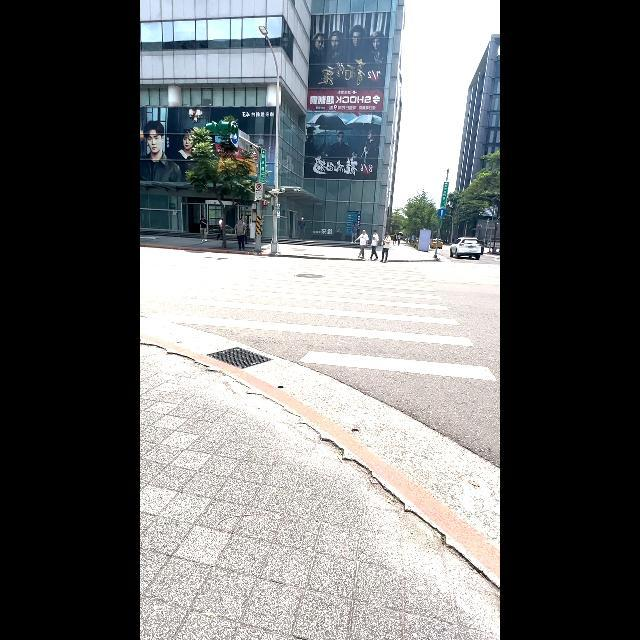sidewalk: (148, 259, 496, 381)
